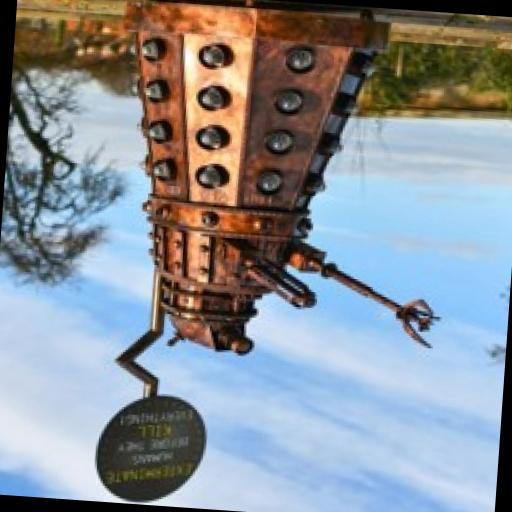dalek: (103, 0, 484, 371)
